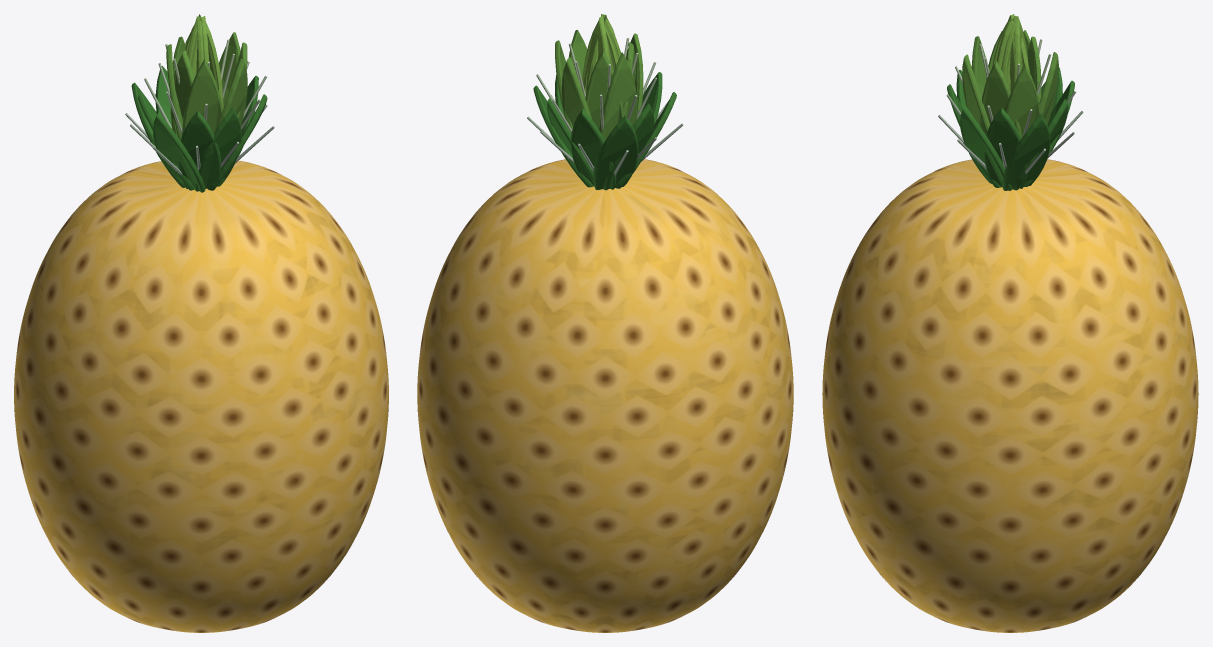
Rendered from pineapple.glb.
3 views of the same model, side by side, from view 1: azimuth 30°, elevation 25°; view 2: azimuth 150°, elevation 25°; view 3: azimuth 270°, elevation 25° (orthographic).
Bounding box in the file's own units: 0.0976 × 0.1699 × 0.0976.
Materials: 49 (1 with a texture image).
